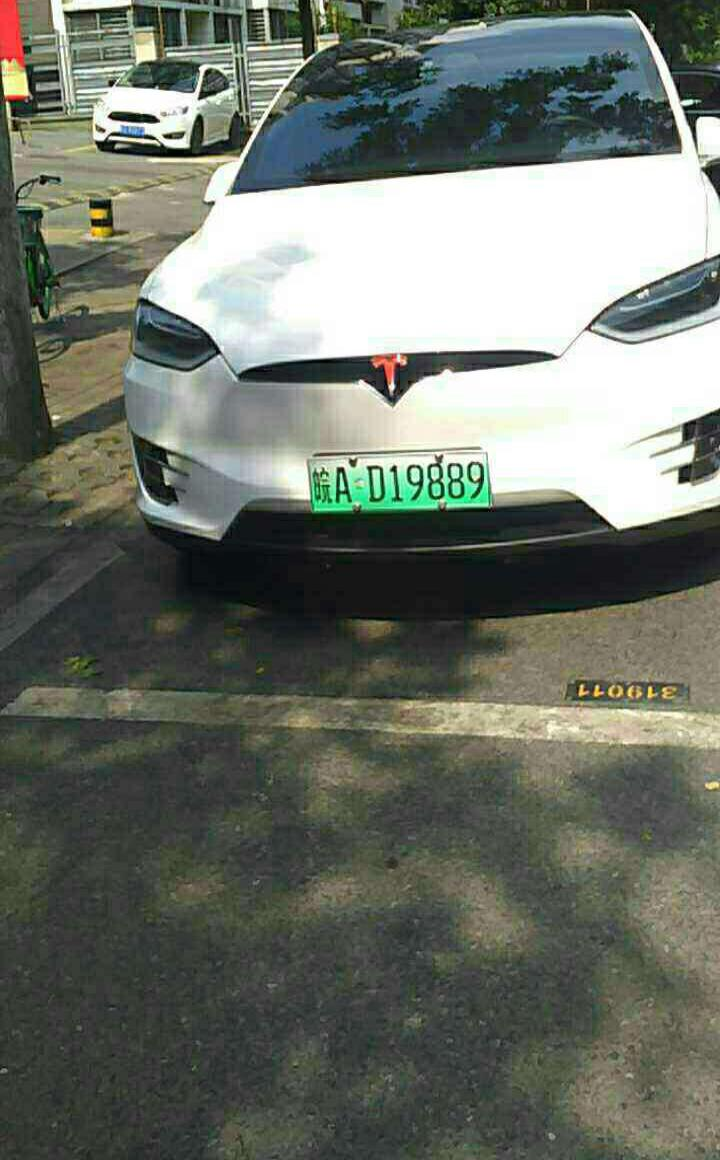car_id: (311, 450, 491, 516)
